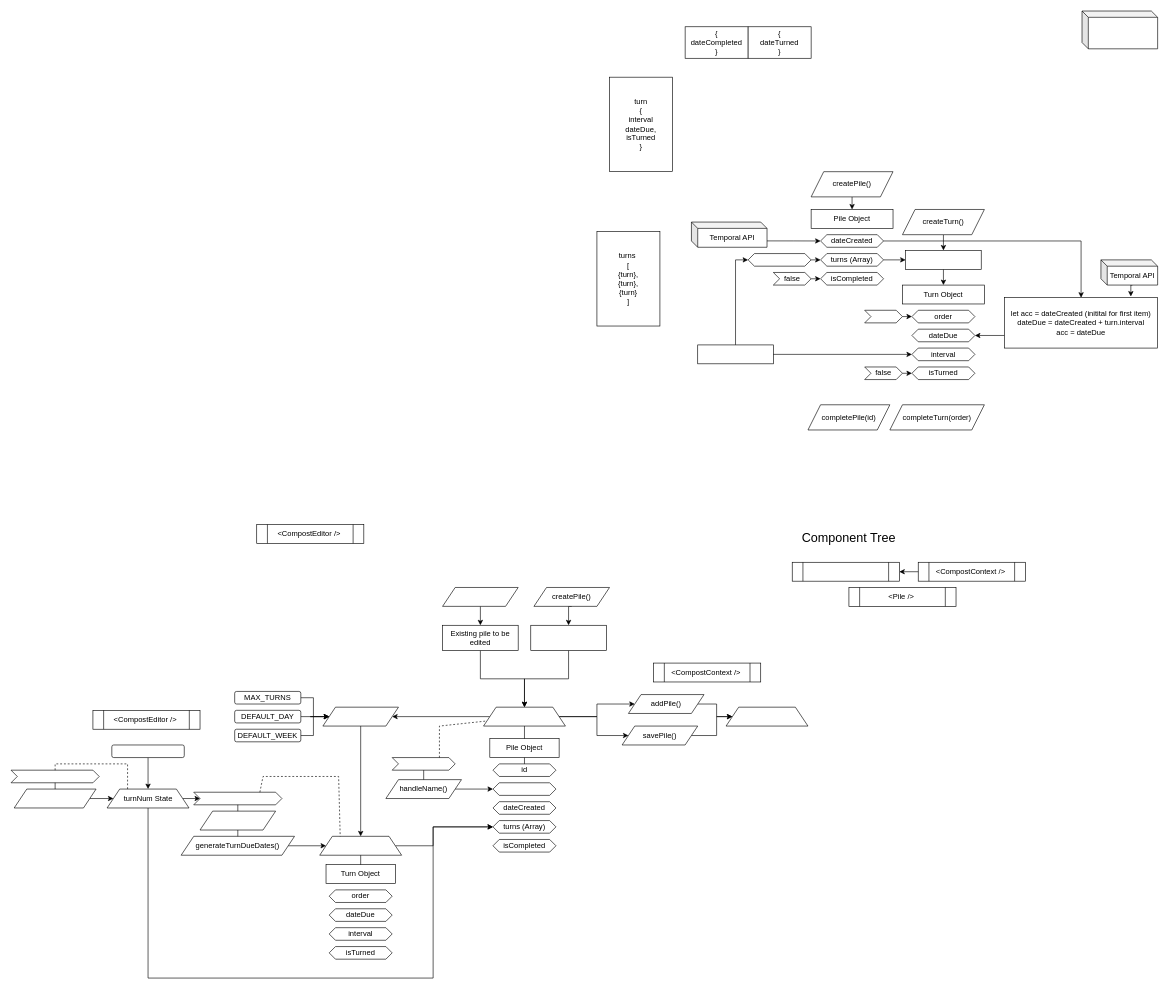
This 1169x994 diagram has some shape labels left out. Each missing label, with the centre of its shape:
"<CompostManager />" goes at pixel 845 571.
"[turn, turn, turn...]" goes at pixel 943 259.
"Compost Data" goes at pixel 1119 29.
"DEFAULT_TURNS" goes at pixel 147 751.
"editorPile State" goes at pixel 524 716.
"editorTurns State" goes at pixel 360 845.
"editPile()" goes at pixel 480 596.
"fillTurns()" goes at pixel 360 716.
"handleInterval()" goes at pixel 237 820.
"handleTurnNum()" goes at pixel 55 798.
"i++" goes at pixel 883 316.
"Interval Inputs" goes at pixel 237 798.
"name" goes at pixel 524 788.
"Name Input" goes at pixel 423 763.
"New pile with default settings" goes at pixel 568 637.
"Piles State" goes at pixel 766 716.
"Turn Number Input" goes at pixel 54 776.
"turnNum" goes at pixel 779 259.
"User inputs" goes at pixel 735 354.
